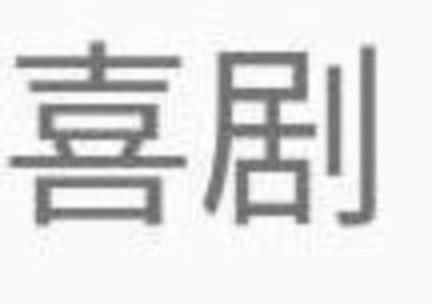TextView: (1, 1, 431, 303)
